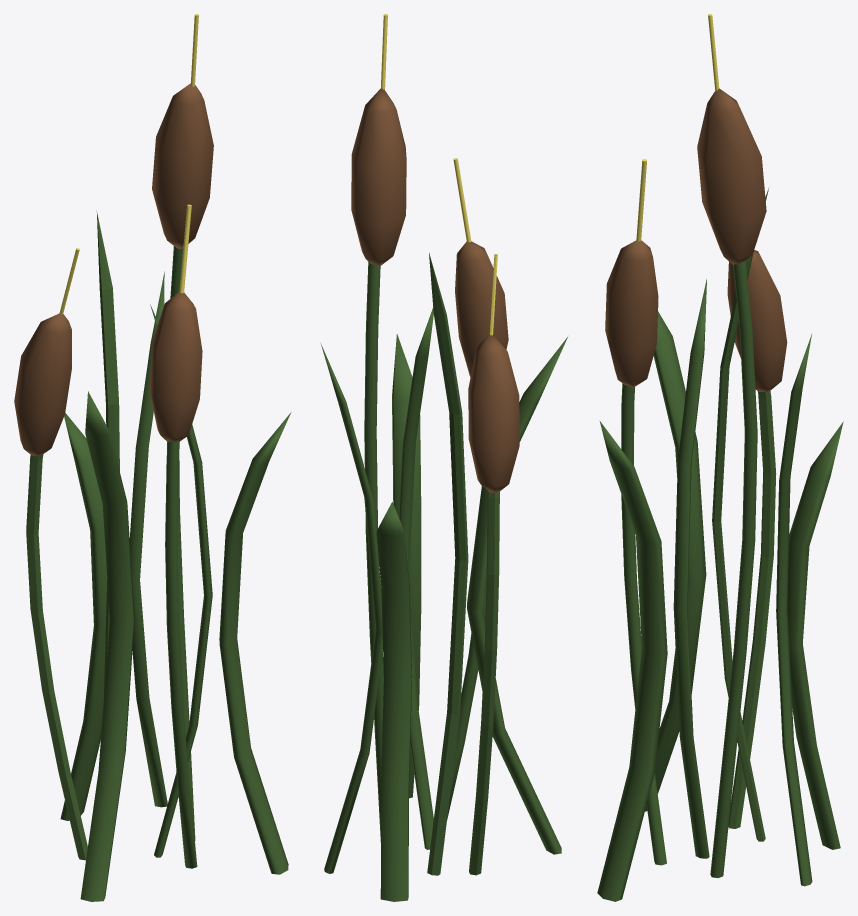
The model's file is cattail.glb.
The picture shows the model from 3 angles, left to right: view 1: azimuth 30°, elevation 25°; view 2: azimuth 150°, elevation 25°; view 3: azimuth 270°, elevation 25°; orthographic projection. The views are drawn at different scales.
Visible parts, largest first — view 1: Cylinder.005, Cylinder.010, Sphere, Cylinder.009, Sphere.002, Sphere.004, Cylinder.001, Cylinder.007, Cylinder.002, Cylinder.006, Cylinder.004, Cylinder; view 2: Cylinder.009, Cylinder.004, Sphere, Sphere.004, Cylinder.005, Cylinder.002, Cylinder.006, Cylinder, Cylinder.007, Cylinder.010, Sphere.002, Cylinder.001; view 3: Cylinder.010, Cylinder, Sphere, Cylinder.009, Cylinder.006, Cylinder.005, Cylinder.007, Sphere.002, Cylinder.002, Cylinder.004, Cylinder.001, Sphere.004.
Part boxes in pixels (x1,y1,x2,y2): Cylinder.005: (80, 391, 134, 901); Cylinder.010: (219, 412, 291, 874); Sphere: (152, 83, 213, 248); Cylinder.009: (60, 413, 107, 820); Sphere.002: (149, 292, 202, 442); Sphere.004: (14, 313, 71, 456); Cylinder.001: (165, 204, 197, 868); Cylinder.007: (129, 271, 167, 807); Cylinder.002: (26, 248, 87, 860); Cylinder.006: (150, 304, 212, 857); Cylinder.004: (96, 211, 119, 771); Cylinder: (167, 14, 198, 840); Cylinder.009: (376, 502, 412, 901); Cylinder.004: (427, 253, 468, 875); Sphere: (351, 88, 406, 266); Sphere.004: (468, 334, 519, 492); Cylinder.005: (467, 337, 567, 854); Cylinder.002: (469, 254, 499, 875); Cylinder.006: (399, 307, 433, 849); Cylinder: (364, 14, 387, 841); Cylinder.007: (320, 343, 382, 873); Cylinder.010: (392, 334, 421, 798); Sphere.002: (455, 241, 508, 377); Cylinder.001: (447, 158, 486, 819); Cylinder.010: (597, 421, 667, 901); Cylinder: (708, 14, 757, 877); Sphere: (697, 88, 766, 265); Cylinder.009: (787, 421, 843, 849); Cylinder.006: (673, 279, 709, 858); Cylinder.005: (645, 311, 706, 811); Cylinder.007: (776, 334, 812, 886); Sphere.002: (605, 240, 658, 387); Cylinder.002: (728, 391, 776, 828); Cylinder.004: (712, 187, 769, 841); Cylinder.001: (621, 159, 666, 865); Sphere.004: (727, 250, 787, 392).
Bounding box in the file's own units: 1.91 × 7.47 × 1.93.
